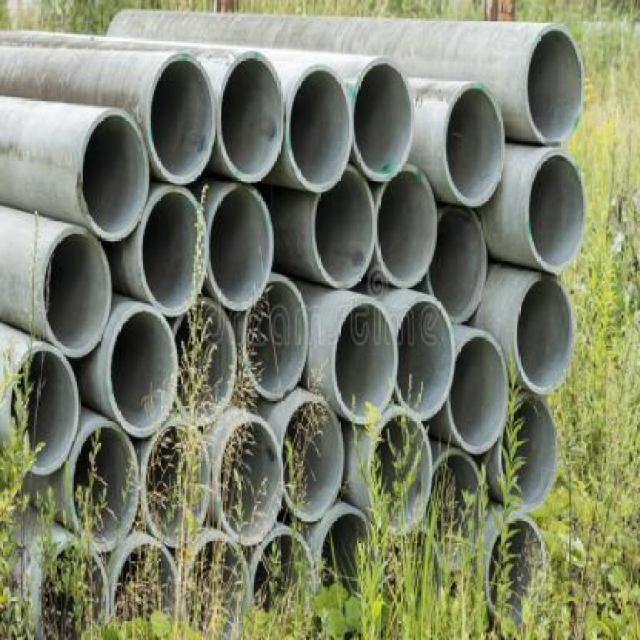pipe: (6, 343, 80, 476), (79, 108, 150, 242), (40, 226, 111, 360), (147, 51, 216, 185), (139, 187, 210, 316), (107, 308, 178, 437), (69, 419, 140, 548), (215, 416, 284, 547), (216, 52, 284, 183), (331, 296, 399, 424), (287, 64, 353, 193), (242, 277, 310, 400), (280, 395, 345, 523), (208, 184, 274, 310), (351, 57, 416, 180), (442, 81, 505, 207), (525, 148, 588, 273), (313, 166, 376, 288), (448, 333, 510, 456), (396, 296, 456, 421), (376, 168, 438, 287), (32, 543, 108, 640), (525, 23, 584, 146), (486, 516, 549, 630), (515, 275, 575, 394), (182, 537, 250, 640), (428, 208, 488, 324), (110, 538, 179, 638), (427, 449, 485, 563), (498, 398, 557, 509), (246, 532, 312, 629), (318, 509, 375, 612)
